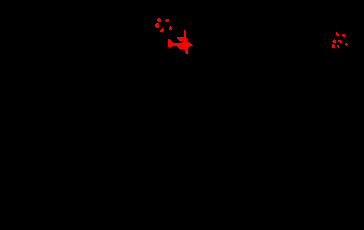Target: (168, 30, 193, 54), (155, 23, 159, 28), (157, 18, 161, 22), (160, 28, 164, 32), (332, 39, 336, 43), (165, 19, 169, 22), (169, 26, 172, 30), (336, 32, 339, 36), (338, 40, 342, 43), (332, 44, 335, 48), (342, 34, 345, 37), (345, 43, 348, 46), (337, 45, 339, 48)
